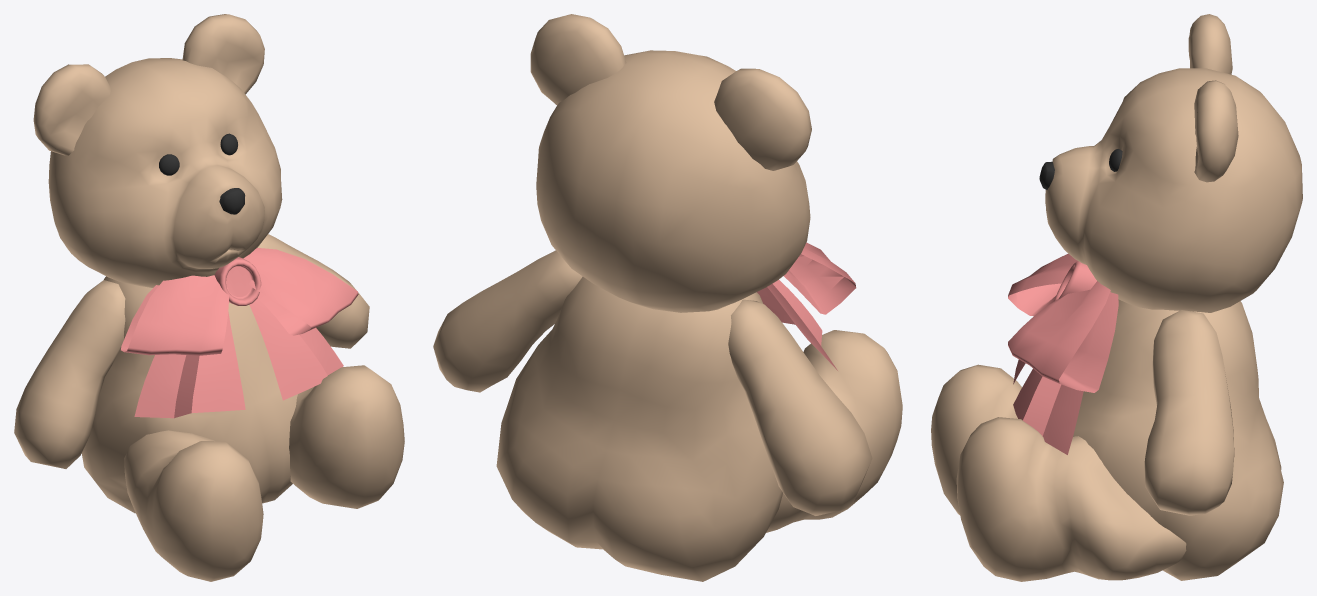
File: gau.glb
The picture shows the model from 3 angles, left to right: view 1: azimuth 30°, elevation 25°; view 2: azimuth 150°, elevation 25°; view 3: azimuth 270°, elevation 25°; orthographic projection. The views are drawn at different scales.
Parts seen in each view (by area): view 1: gau_long, gau_no, gau_mat; view 2: gau_long, gau_no; view 3: gau_long, gau_no, gau_mat.
Part boxes in pixels (x1,y1,x2,y2): gau_long: (14,14,404,581); gau_no: (121,247,358,418); gau_mat: (159,133,245,214); gau_long: (433,14,902,581); gau_no: (757,242,856,370); gau_long: (931,14,1302,581); gau_no: (1008,253,1118,454); gau_mat: (1039,149,1122,190).
Bounding box in the file's own units: 2.46 × 3.09 × 2.08.
